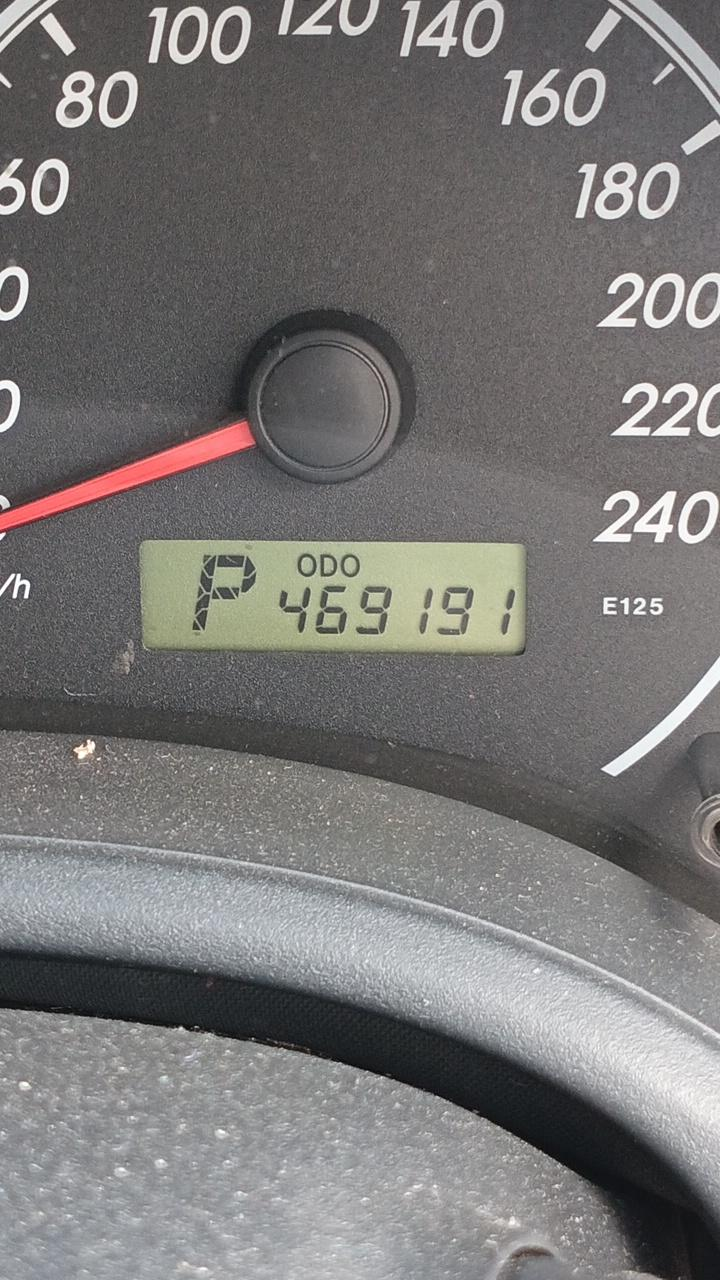1: (499, 588, 517, 636), (418, 587, 434, 635)
4: (278, 586, 312, 634)
6: (315, 585, 348, 635)
9: (355, 585, 393, 635), (436, 587, 474, 636)
X: (189, 553, 257, 633), (340, 554, 361, 578), (297, 553, 317, 577), (319, 554, 338, 577)
odometer: (138, 539, 528, 658)
